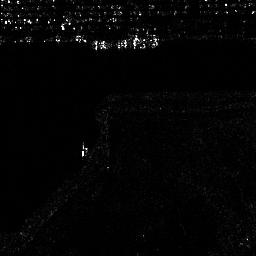ship: (88, 35, 162, 51)
